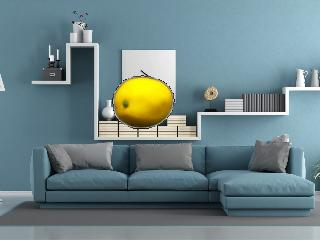lemon: (114, 77, 172, 126)
